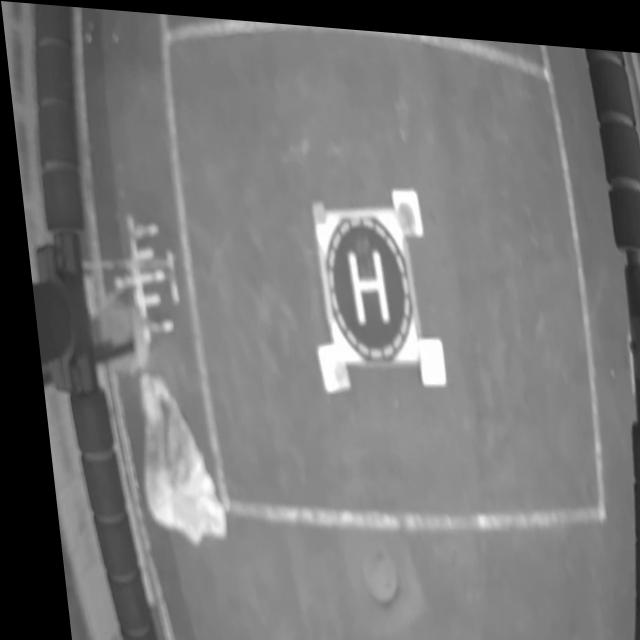Helipad: (341, 241, 384, 319)
